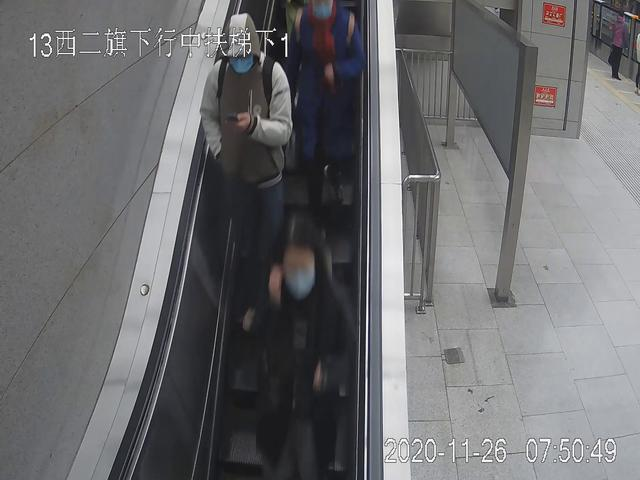person: (200, 12, 291, 332), (250, 223, 351, 480), (293, 1, 363, 209), (607, 9, 631, 81)
